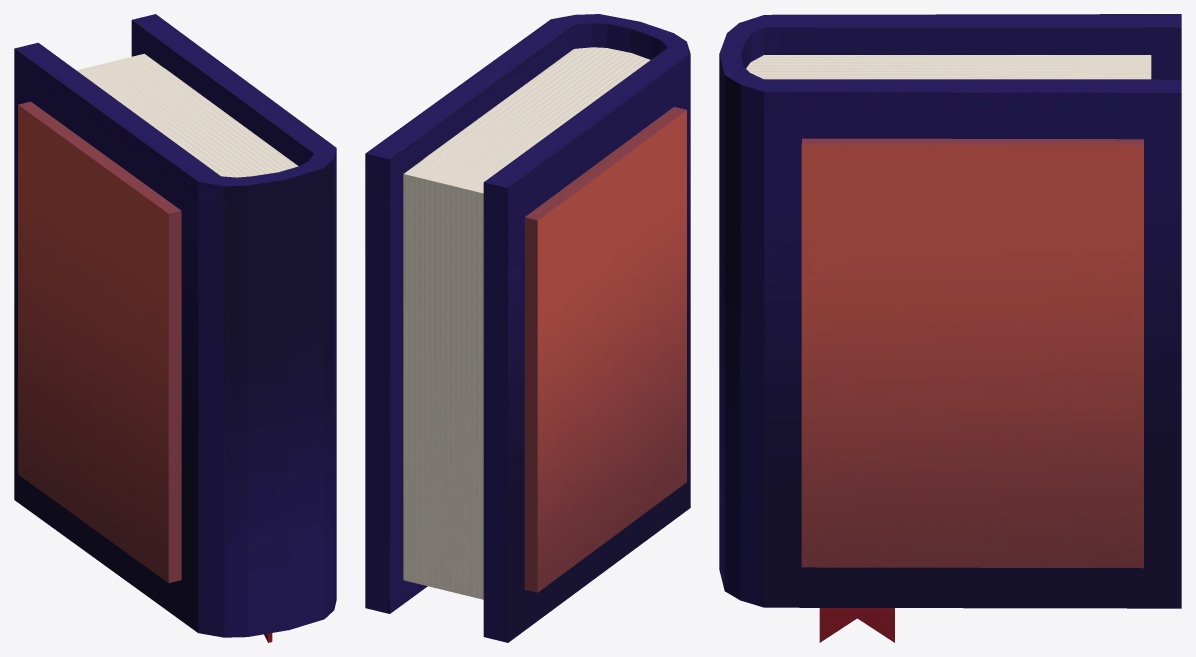
Rendered from quaternius-rpg-asset-book.glb.
3 renders of one model, left to right at view 1: azimuth 30°, elevation 25°; view 2: azimuth 150°, elevation 25°; view 3: azimuth 270°, elevation 25°, orthographic. The views are drawn at different scales.
Parts seen in each view (by area): view 1: Book; view 2: Book; view 3: Book.
Part boxes in pixels (<box>): Book: <box>14,14,336,642</box>; Book: <box>365,14,690,642</box>; Book: <box>719,14,1181,642</box>.
Bounding box in the file's own units: 0.3261 × 0.9474 × 0.6919.
1 material, 1 textured.
